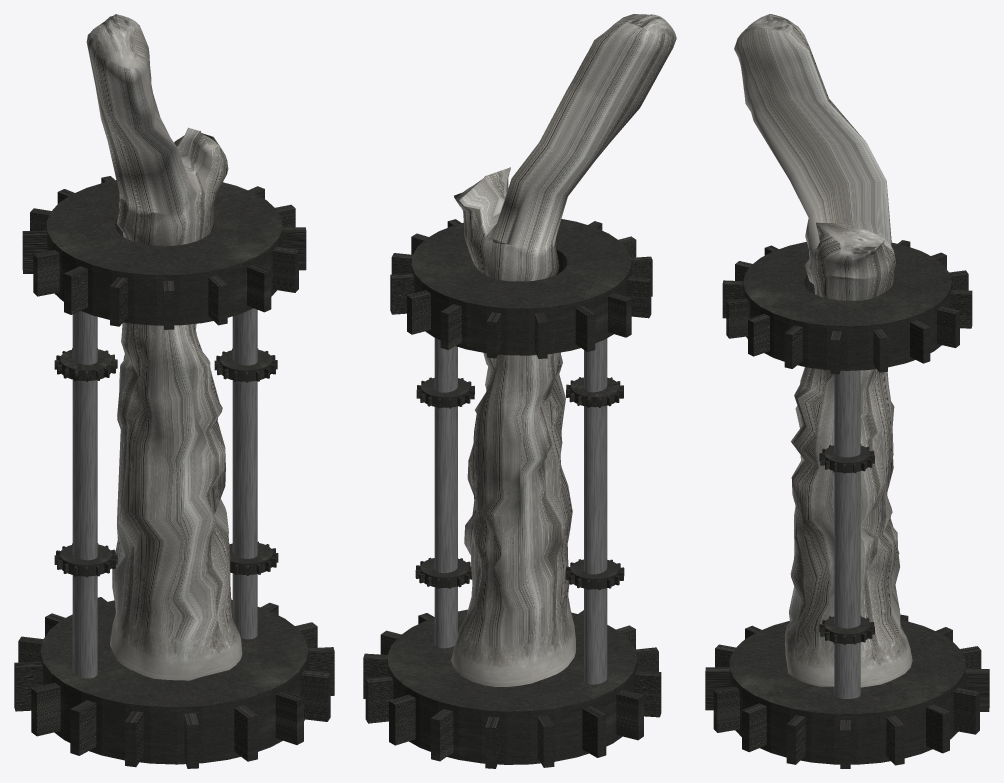
Rendered from Gear_Tree.glb.
The picture shows the model from 3 angles, left to right: view 1: azimuth 30°, elevation 25°; view 2: azimuth 150°, elevation 25°; view 3: azimuth 270°, elevation 25°; orthographic projection. The views are drawn at different scales.
Parts seen in each view (by area): view 1: Cylinder, Cylinder.012, Cylinder.001, Cylinder.005, Cylinder.008, Cylinder.006, Cylinder.009, Cylinder.004, Cylinder.007; view 2: Cylinder, Cylinder.012, Cylinder.001, Cylinder.005, Cylinder.008, Cylinder.006, Cylinder.009, Cylinder.004, Cylinder.007; view 3: Cylinder, Cylinder.012, Cylinder.001, Cylinder.008, Cylinder.009, Cylinder.007.
Boxes of the visible parts, bbox=[...] form: Cylinder: bbox=[86, 14, 242, 680]; Cylinder.012: bbox=[14, 597, 334, 768]; Cylinder.001: bbox=[22, 176, 306, 329]; Cylinder.005: bbox=[72, 311, 97, 678]; Cylinder.008: bbox=[232, 308, 257, 639]; Cylinder.006: bbox=[54, 543, 117, 577]; Cylinder.009: bbox=[214, 348, 277, 382]; Cylinder.004: bbox=[54, 348, 117, 381]; Cylinder.007: bbox=[229, 541, 278, 575]; Cylinder: bbox=[451, 14, 676, 686]; Cylinder.012: bbox=[363, 609, 661, 768]; Cylinder.001: bbox=[390, 219, 652, 358]; Cylinder.005: bbox=[584, 338, 607, 684]; Cylinder.008: bbox=[434, 338, 457, 648]; Cylinder.006: bbox=[565, 559, 624, 590]; Cylinder.009: bbox=[416, 377, 474, 408]; Cylinder.004: bbox=[566, 377, 623, 407]; Cylinder.007: bbox=[415, 557, 471, 588]; Cylinder: bbox=[734, 14, 912, 687]; Cylinder.012: bbox=[705, 614, 989, 768]; Cylinder.001: bbox=[722, 240, 972, 374]; Cylinder.008: bbox=[834, 370, 860, 698]; Cylinder.009: bbox=[819, 444, 874, 473]; Cylinder.007: bbox=[819, 615, 874, 644].
Size of the model in its own units: 7.44 by 18.9 by 7.44.
4 materials, 4 textured.
